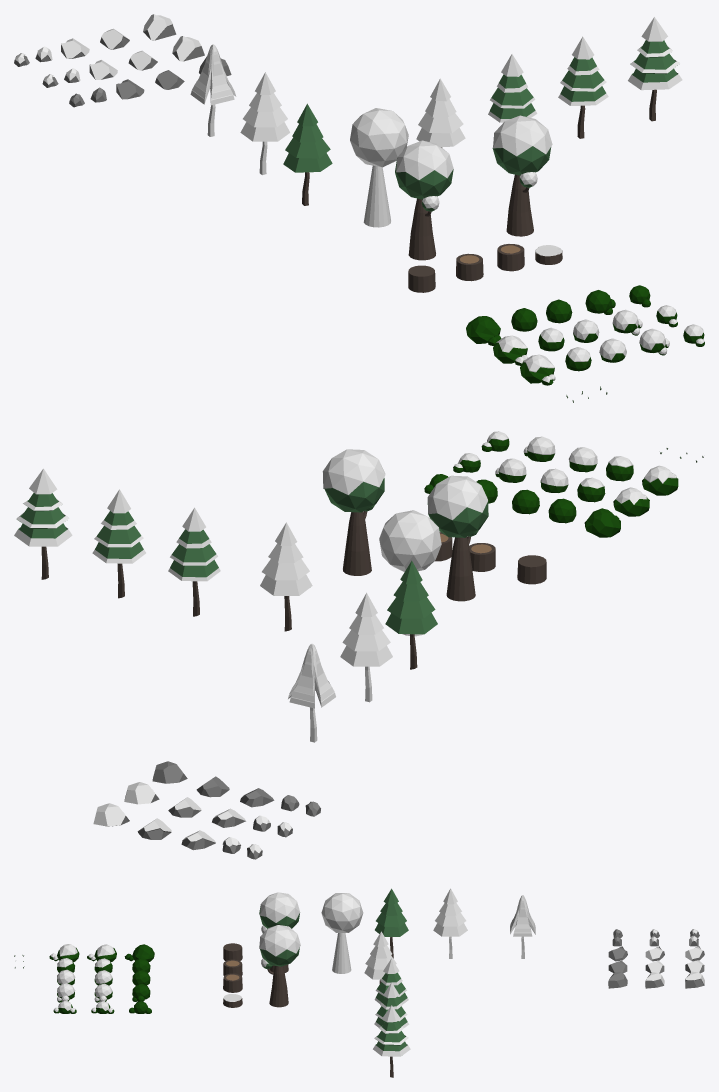
The model's file is env-test.glb.
3 renders of one model, top to bottom at view 1: azimuth 30°, elevation 25°; view 2: azimuth 150°, elevation 25°; view 3: azimuth 270°, elevation 25°, orthographic. The views are drawn at different scales.
Parts seen in each view (by area): view 1: Icosphere.004, Icosphere.002, Icosphere.001, Cone.005, Cone.004, Cone, Cone.001, Cone.002, Cone.003, Cube.001, Cylinder, Cylinder.001 (+9 smaller); view 2: Icosphere.004, Icosphere.002, Icosphere.001, Cone.005, Cone.004, Cone.003, Cone.001, Cone, Cone.002, Cube.001, Cylinder.001, Cylinder.003 (+5 smaller); view 3: Icosphere.004, Icosphere.001, Icosphere.002, Cone.005, Cone, Cone.001, Cone.002, Cone.003, Cone.004, Cube.001, Cylinder.003, Cylinder (+2 smaller).
Part boxes in pixels (bbox=[...]): Icosphere.004: bbox=[492, 115, 552, 175]; Icosphere.002: bbox=[395, 140, 453, 199]; Icosphere.001: bbox=[350, 108, 408, 167]; Cone.005: bbox=[628, 17, 682, 90]; Cone.004: bbox=[558, 36, 608, 105]; Cone: bbox=[240, 72, 289, 141]; Cone.001: bbox=[283, 103, 332, 172]; Cone.002: bbox=[416, 78, 465, 146]; Cone.003: bbox=[488, 54, 537, 122]; Cube.001: bbox=[190, 44, 236, 105]; Cylinder: bbox=[363, 165, 390, 227]; Cylinder.001: bbox=[408, 198, 435, 260]; Icosphere.004: bbox=[322, 449, 385, 512]; Icosphere.002: bbox=[427, 475, 488, 537]; Icosphere.001: bbox=[379, 510, 441, 571]; Cone.005: bbox=[14, 468, 72, 546]; Cone.004: bbox=[92, 489, 145, 563]; Cone.003: bbox=[168, 507, 220, 581]; Cone.001: bbox=[385, 560, 437, 634]; Cone: bbox=[340, 593, 392, 666]; Cone.002: bbox=[260, 522, 312, 595]; Cube.001: bbox=[288, 643, 335, 708]; Cylinder.001: bbox=[446, 537, 475, 601]; Cylinder.003: bbox=[343, 512, 371, 575]; Icosphere.004: bbox=[259, 925, 300, 966]; Icosphere.001: bbox=[321, 893, 363, 932]; Icosphere.002: bbox=[259, 892, 300, 928]; Cone.005: bbox=[373, 1005, 410, 1056]; Cone: bbox=[433, 888, 467, 936]; Cone.001: bbox=[375, 888, 408, 936]; Cone.002: bbox=[364, 931, 398, 979]; Cone.003: bbox=[374, 958, 408, 1003]; Cone.004: bbox=[374, 982, 409, 1027]; Cube.001: bbox=[510, 895, 535, 936]; Cylinder.003: bbox=[269, 966, 288, 1007]; Cylinder: bbox=[332, 933, 351, 973].
Bounding box in the file's own units: 6.62 × 1.66 × 12.83.
